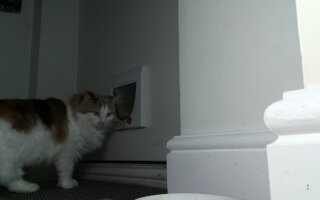clara: (1, 91, 129, 198)
